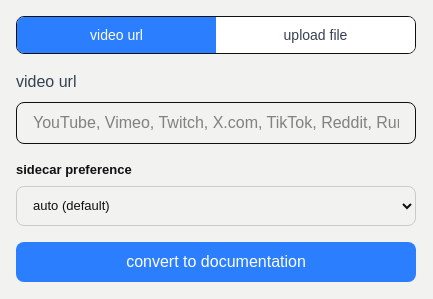
Test case: VideoSubmission › upload file mode › disables submit until a file is chosen
The width and height of the screenshot is (433, 299).
Step 1. Click the button "upload file" → (316, 35), box x1=216 y1=17 x2=415 y2=53
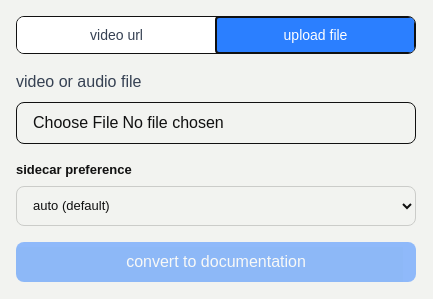
Result: the button "convert to documentation" is disabled at x1=16 y1=242 x2=416 y2=282
